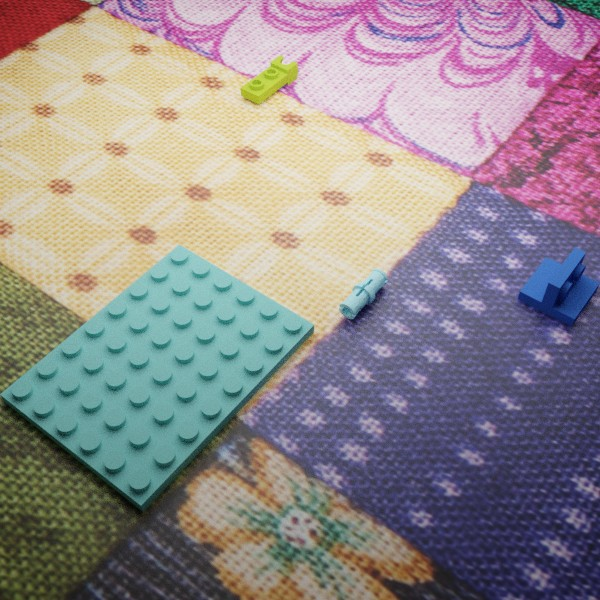lego: (0, 244, 314, 512), (517, 247, 600, 326), (240, 55, 298, 104), (338, 268, 388, 319)
